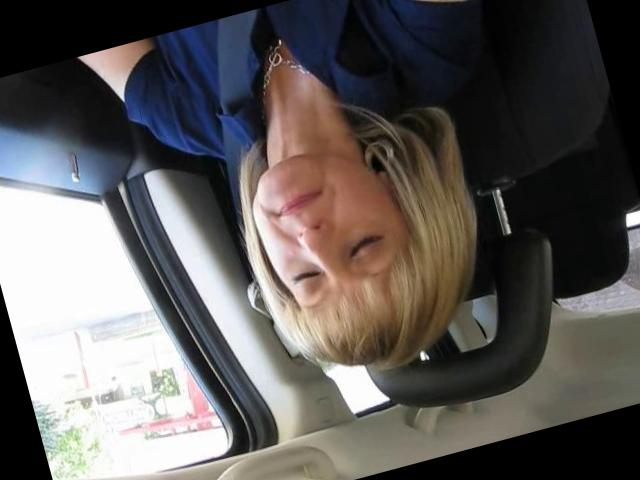eye_closed: (336, 219, 394, 271), (278, 254, 327, 297)
face: (240, 131, 420, 324)
